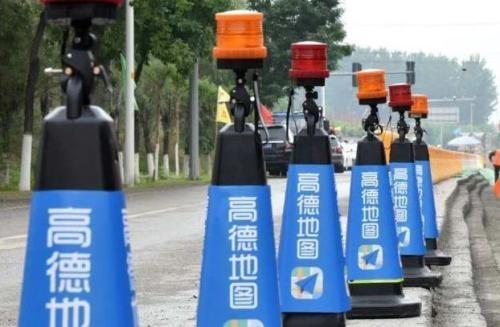cone_barrel: (7, 67, 138, 326), (187, 107, 286, 324), (270, 114, 354, 322), (336, 139, 410, 316), (386, 133, 434, 276), (412, 135, 449, 258)
